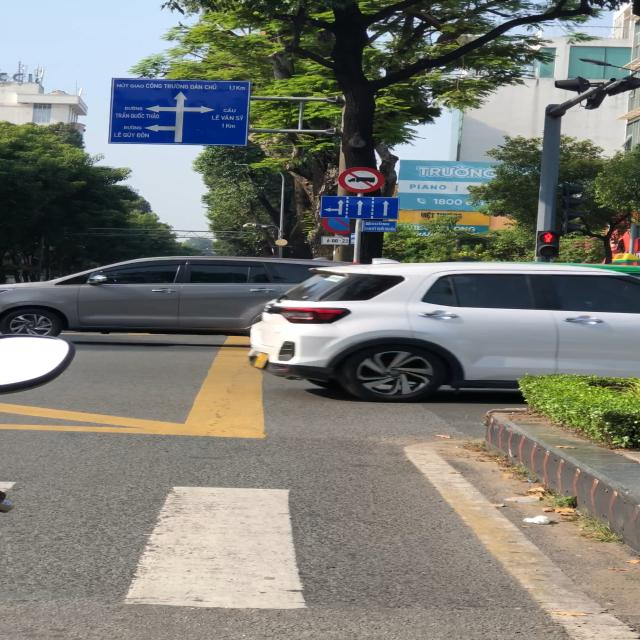Bien bao cam xe so-mi ro-mooc: (335, 163, 391, 194)
